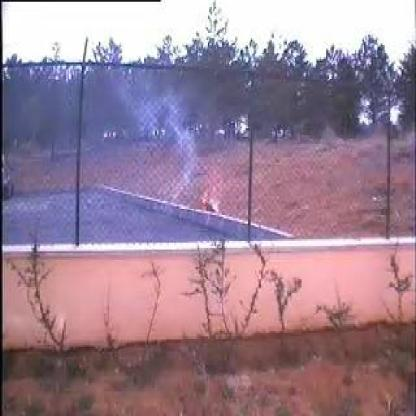-: (85, 72, 201, 238)
